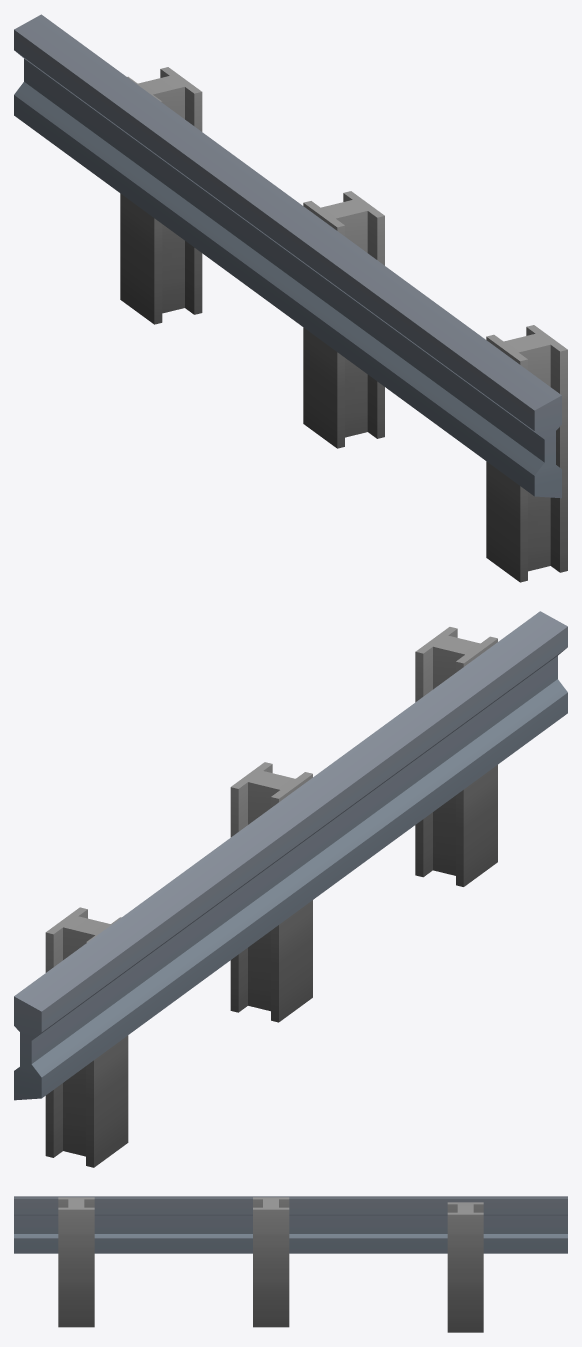
File: RoadBarier_2_B_2.fbx
The picture shows the model from 3 angles, top to bottom: view 1: azimuth 30°, elevation 25°; view 2: azimuth 150°, elevation 25°; view 3: azimuth 270°, elevation 25°; orthographic projection. The views are drawn at different scales.
Visible parts, largest first — view 1: RoadBarier_2_B_2; view 2: RoadBarier_2_B_2; view 3: RoadBarier_2_B_2.
Part boxes in pixels (box(x1,y1,x2,y2)): RoadBarier_2_B_2: box(14, 14, 567, 582); RoadBarier_2_B_2: box(14, 611, 567, 1167); RoadBarier_2_B_2: box(14, 1196, 567, 1332).
Bounding box in the file's own units: 25.02 × 73.47 × 300.
